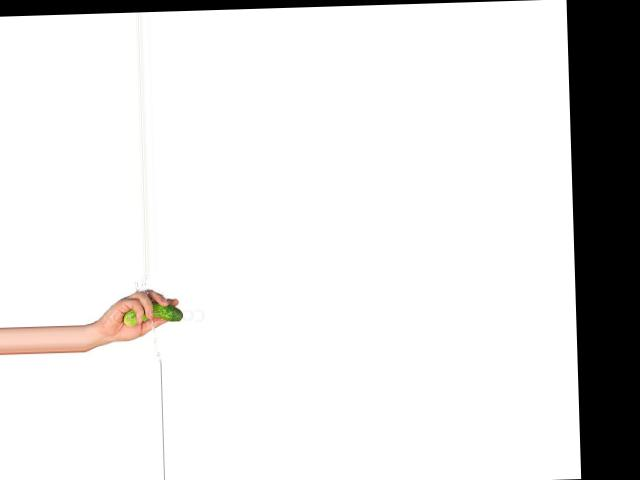cucumber: (123, 301, 183, 325)
